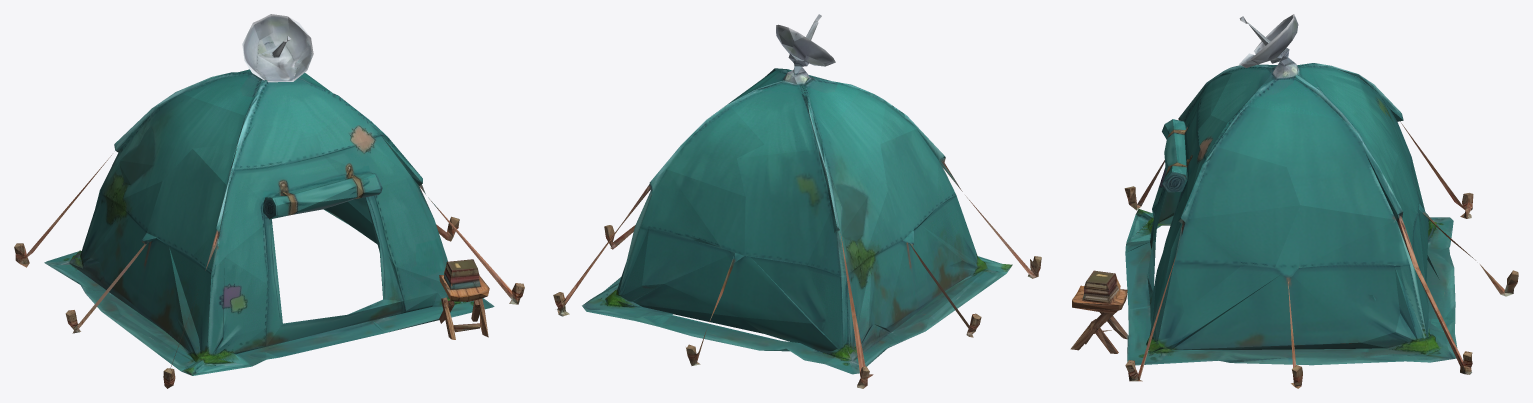
Rendered from meshy.glb.
3 views of the same model, side by side, from view 1: azimuth 30°, elevation 25°; view 2: azimuth 150°, elevation 25°; view 3: azimuth 270°, elevation 25° (orthographic). The views are drawn at different scales.
Bounding box in the file's own units: 1.9 × 1.27 × 1.83.
Materials: 1 (1 with a texture image).
